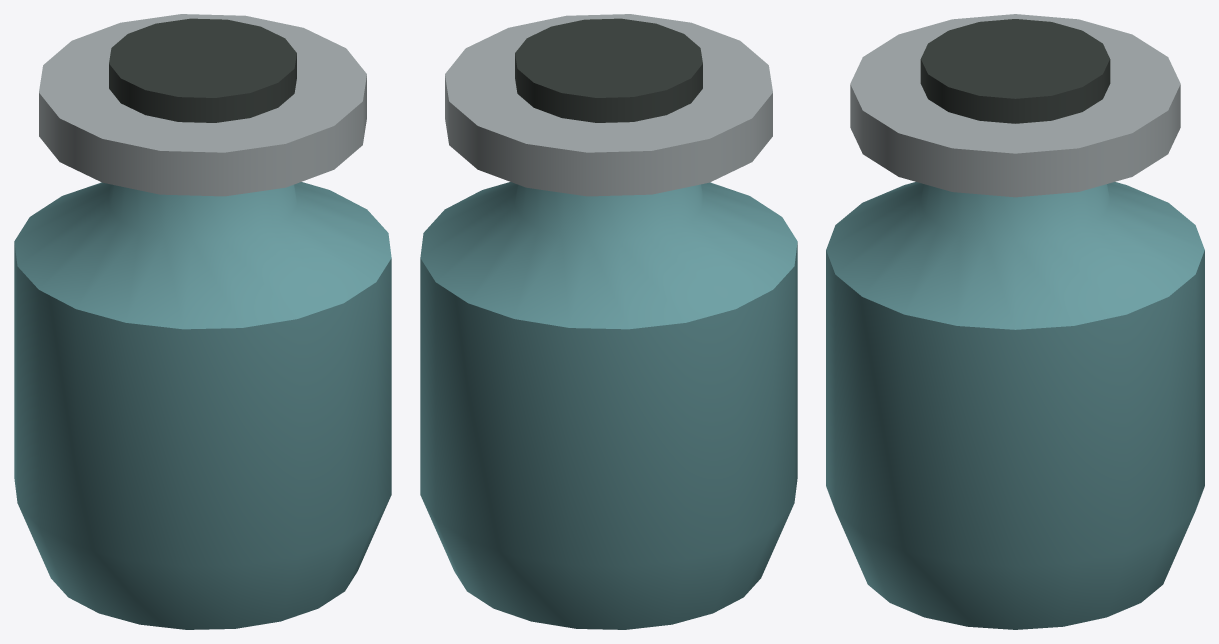
Rendered from survival-food-and-preservation-preserving-jar-6ef0eae9__21781.glb.
3 renders of one model, left to right at view 1: azimuth 30°, elevation 25°; view 2: azimuth 150°, elevation 25°; view 3: azimuth 270°, elevation 25°, orthographic.
Visible parts, largest first — view 1: preserving-jar; view 2: preserving-jar; view 3: preserving-jar.
Boxes of the visible parts, left/top/right/bottom form: preserving-jar: left=14, top=14, right=391, bottom=629; preserving-jar: left=420, top=14, right=797, bottom=629; preserving-jar: left=826, top=14, right=1204, bottom=629.
Size of the model in its own units: 0.11 by 0.162 by 0.11.
